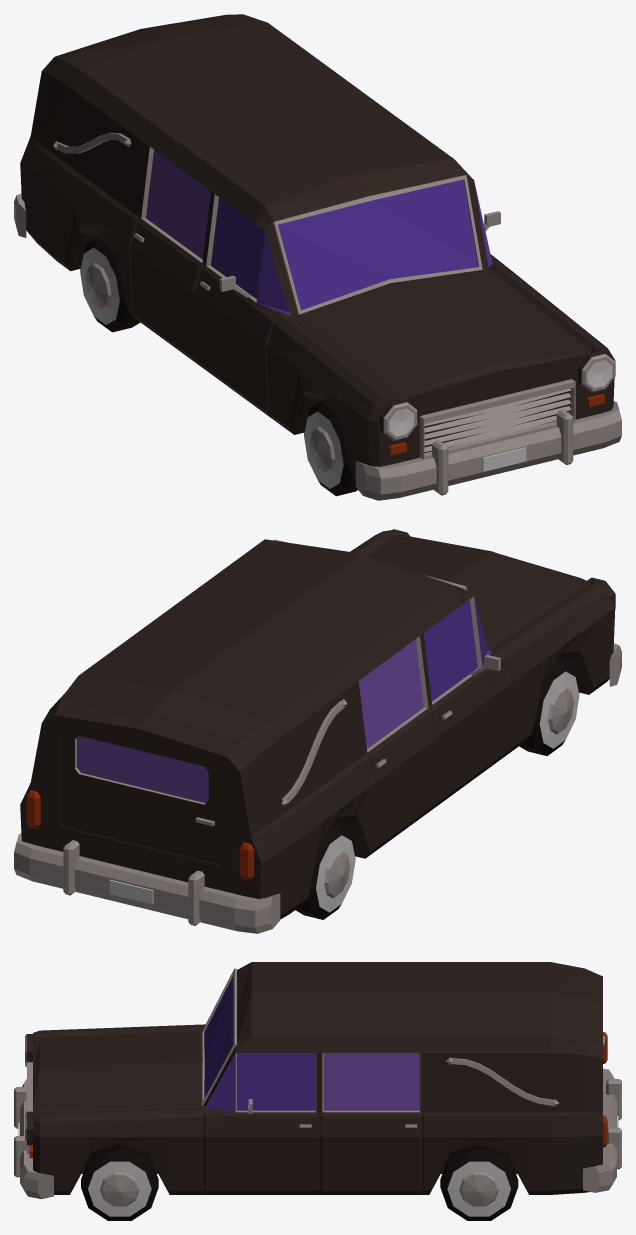
The model's file is vintage-hearse-3b2ec1.glb.
3 renders of one model, top to bottom at view 1: azimuth 30°, elevation 25°; view 2: azimuth 150°, elevation 25°; view 3: azimuth 270°, elevation 25°, orthographic. The views are drawn at different scales.
Visible parts, largest first — view 1: body, tyre-rr, tyre-fr; view 2: body, tyre-fr, tyre-rr; view 3: body, tyre-rl, tyre-fl.
Part boxes in pixels (bbox=[...]): body: bbox=[14, 14, 621, 500]; tyre-rr: bbox=[80, 237, 140, 332]; tyre-fr: bbox=[304, 400, 357, 496]; body: bbox=[14, 529, 621, 933]; tyre-fr: bbox=[519, 660, 579, 755]; tyre-rr: bbox=[295, 824, 355, 919]; body: bbox=[14, 962, 621, 1198]; tyre-rl: bbox=[440, 1149, 518, 1220]; tyre-fl: bbox=[81, 1149, 158, 1220].
Size of the model in its own units: 2.59 by 2.04 by 6.09.
